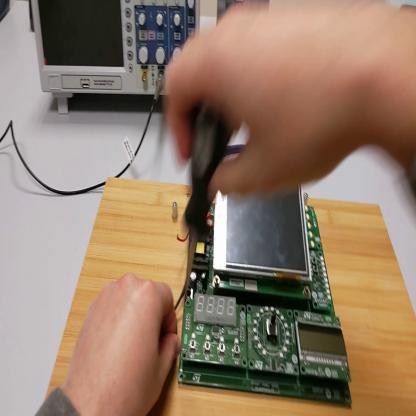hand: (167, 2, 380, 200), (67, 271, 180, 415)
low voltage board: (177, 195, 353, 409)
oscilloscope: (33, 1, 203, 122)
screwdriver-: (185, 104, 230, 308)
socket: (2, 3, 11, 26), (30, 3, 36, 32)
working area: (43, 177, 415, 414)
